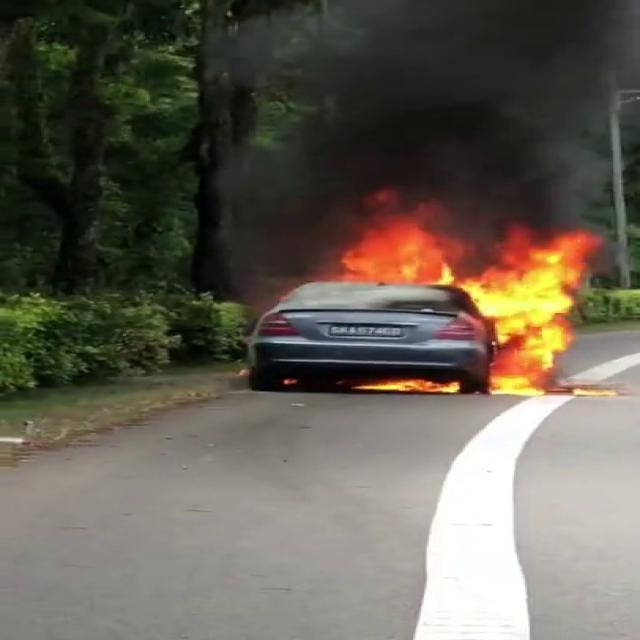Fire: (458, 229, 601, 394), (323, 212, 465, 290), (357, 374, 463, 396)
Smoke: (196, 0, 638, 245)
